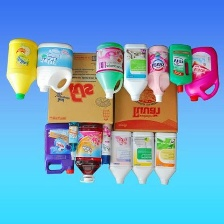aerosol_cans: (99, 120, 113, 165)
book: (108, 49, 181, 138), (44, 47, 118, 129)
cleaning_solution: (32, 41, 76, 95), (181, 44, 220, 103), (4, 36, 39, 101), (71, 120, 104, 184), (40, 120, 76, 177), (93, 41, 126, 100), (119, 41, 149, 101), (145, 42, 171, 104), (165, 42, 194, 95), (108, 129, 134, 187), (129, 130, 155, 185), (152, 130, 177, 186), (64, 119, 81, 162)
